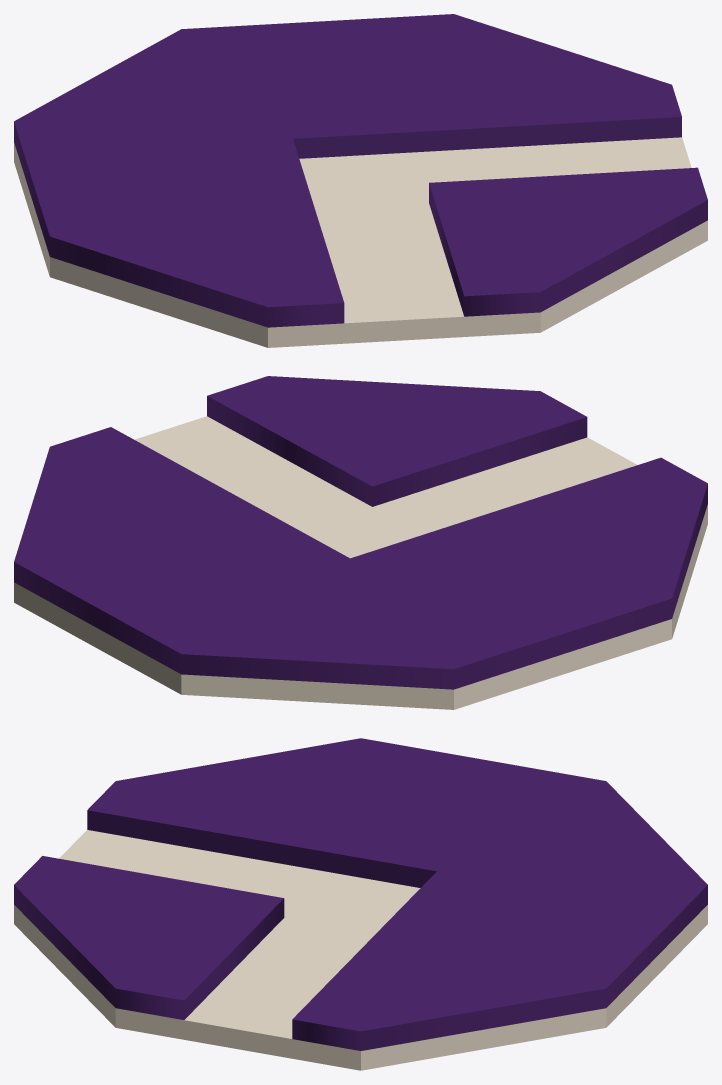
Rendered from Tile_003_Right_angle.FBX.
The picture shows the model from 3 angles, top to bottom: view 1: azimuth 30°, elevation 25°; view 2: azimuth 150°, elevation 25°; view 3: azimuth 270°, elevation 25°; orthographic projection. The views are drawn at different scales.
Parts seen in each view (by area): view 1: NGon072; view 2: NGon072; view 3: NGon072.
Part boxes in pixels (x1,y1,x2,y2): NGon072: (14,14,707,347); NGon072: (14,376,707,709); NGon072: (14,738,707,1070).
Bounding box in the file's own units: 16 × 1 × 16.
